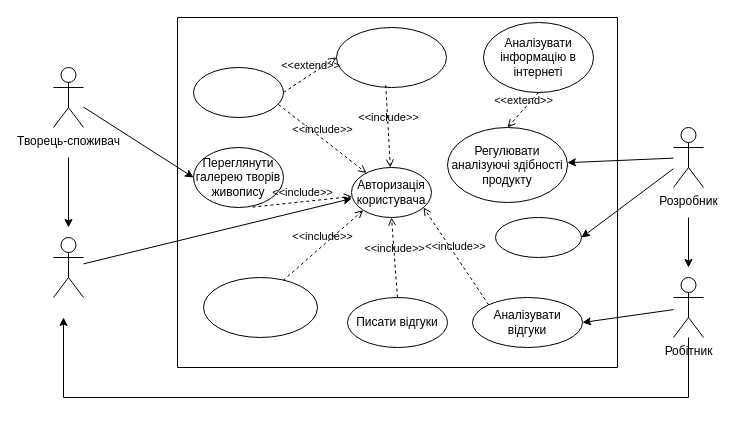
The diagram is 735 pixels wide and 423 high, and some of its shapes have lost their labels. The box of each missing label's shape, as (x1, y1, x2, y2) in pixels:
Заносити дані про сон: (192, 66, 284, 118)
Записувати свої сни: (336, 26, 446, 88)
Користувач: (52, 236, 84, 298)
Оновлювати продукт: (494, 216, 582, 258)
Переглядати рекомендації щодо сну: (202, 276, 318, 338)
